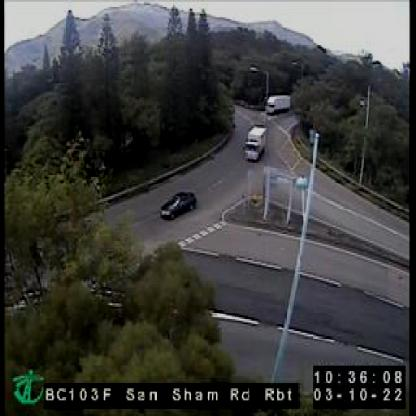Car: (160, 189, 194, 220)
Truck: (243, 123, 264, 161), (265, 94, 290, 115)
